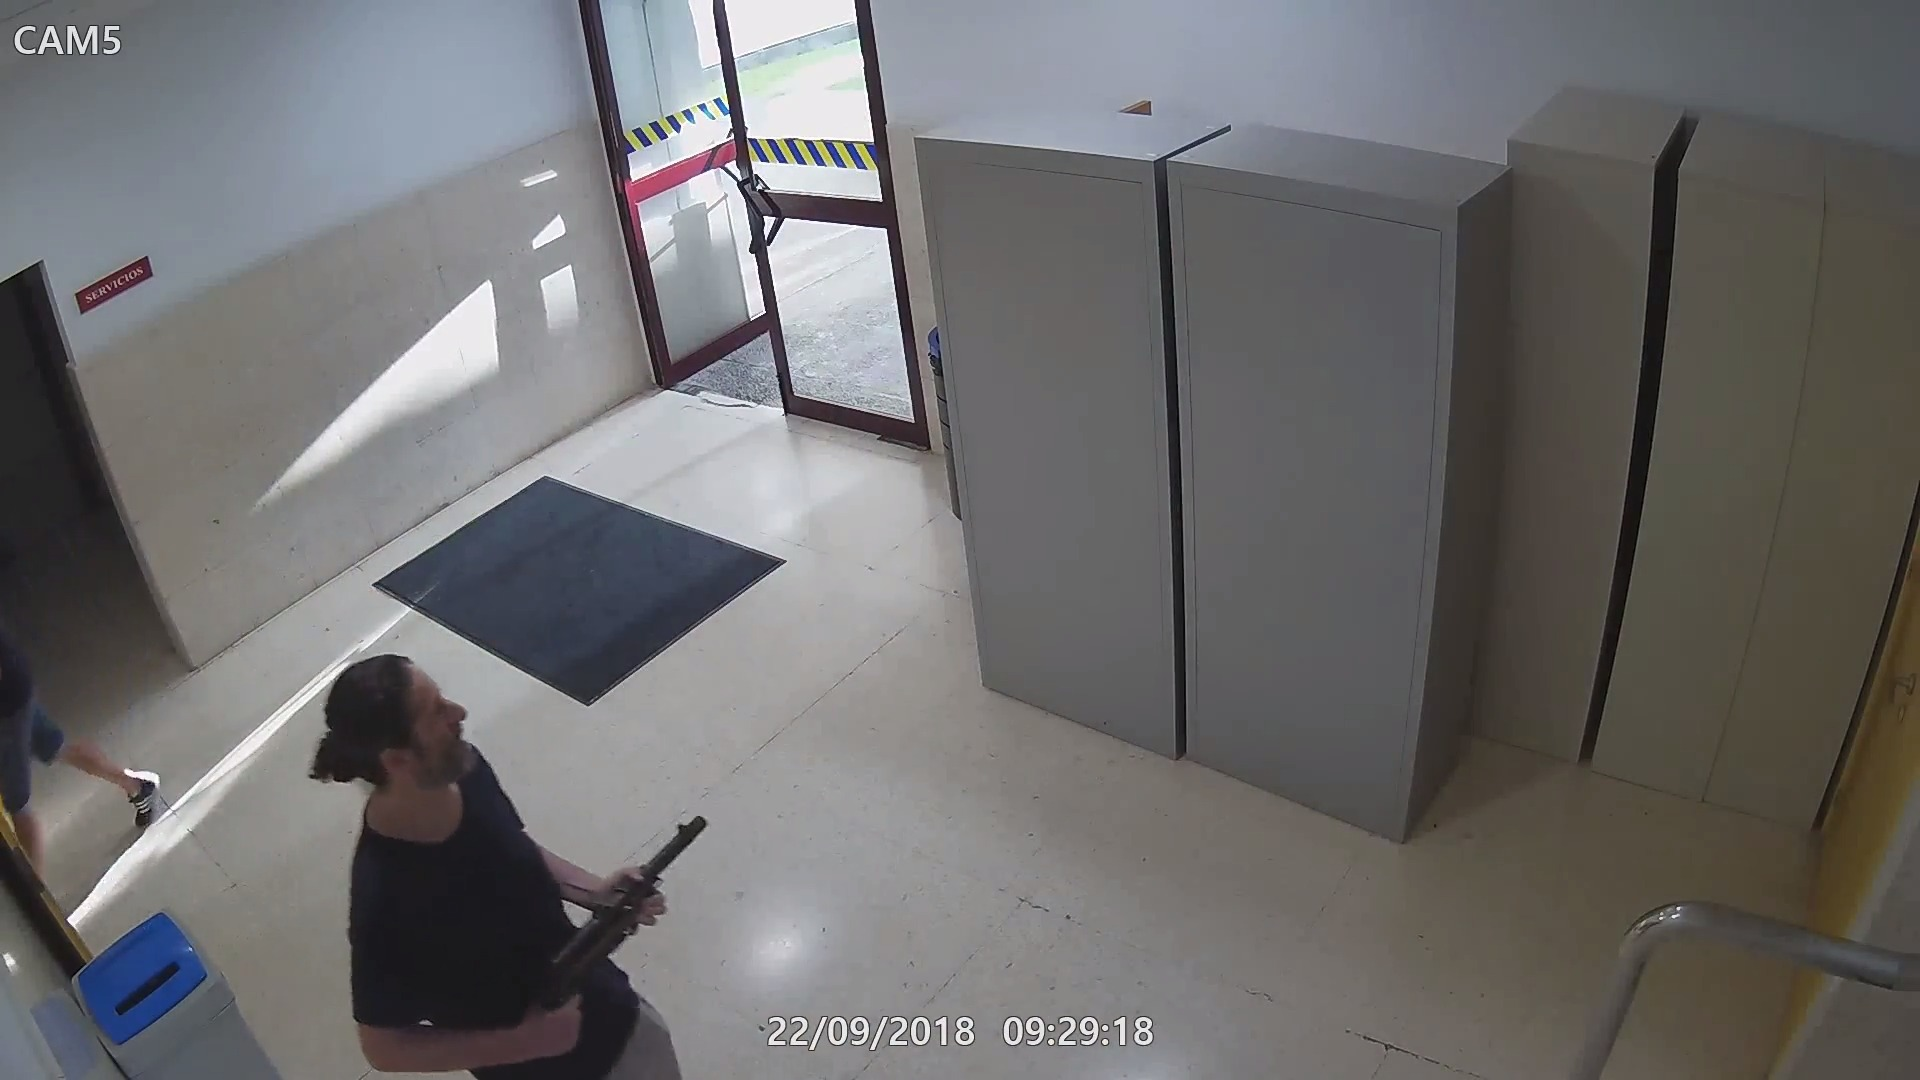Short_rifle: (527, 812, 715, 1062)
